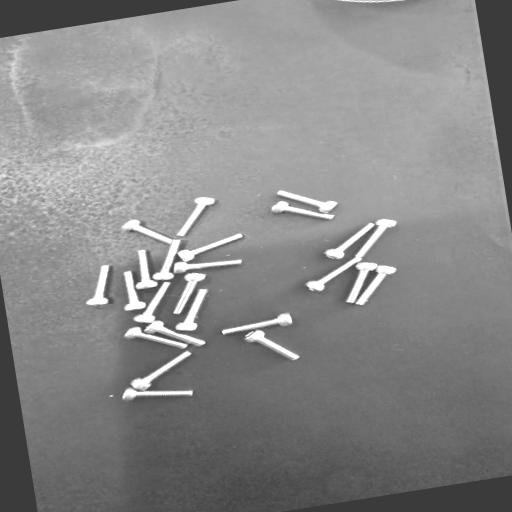Bolt: (131, 352, 191, 391), (306, 257, 361, 291), (325, 223, 374, 259), (178, 234, 243, 261), (245, 330, 299, 360), (356, 265, 396, 305), (145, 320, 205, 346), (356, 219, 396, 257), (134, 282, 170, 323), (223, 313, 292, 334), (178, 197, 214, 236), (176, 289, 208, 331), (124, 327, 188, 348), (174, 273, 206, 314), (278, 191, 337, 213), (346, 262, 377, 303), (122, 220, 172, 244), (272, 201, 334, 220), (153, 240, 181, 280), (87, 265, 110, 305), (123, 388, 193, 401), (174, 260, 242, 273), (136, 250, 158, 289), (124, 271, 146, 310)
